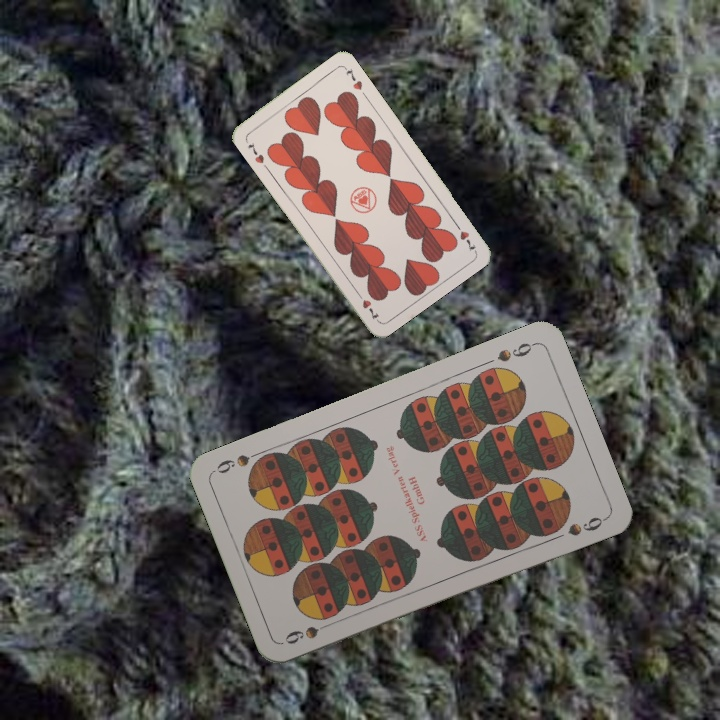H7: (450, 218, 478, 254), (243, 138, 267, 166)
S9: (280, 617, 337, 647), (493, 338, 539, 365)
